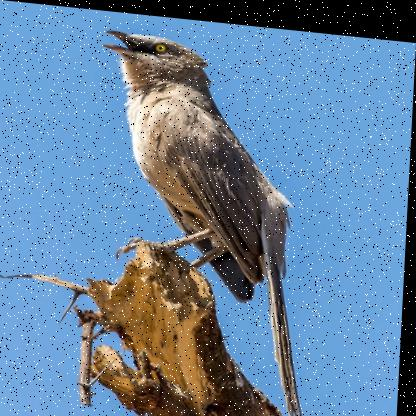Burung: (86, 25, 324, 415)
